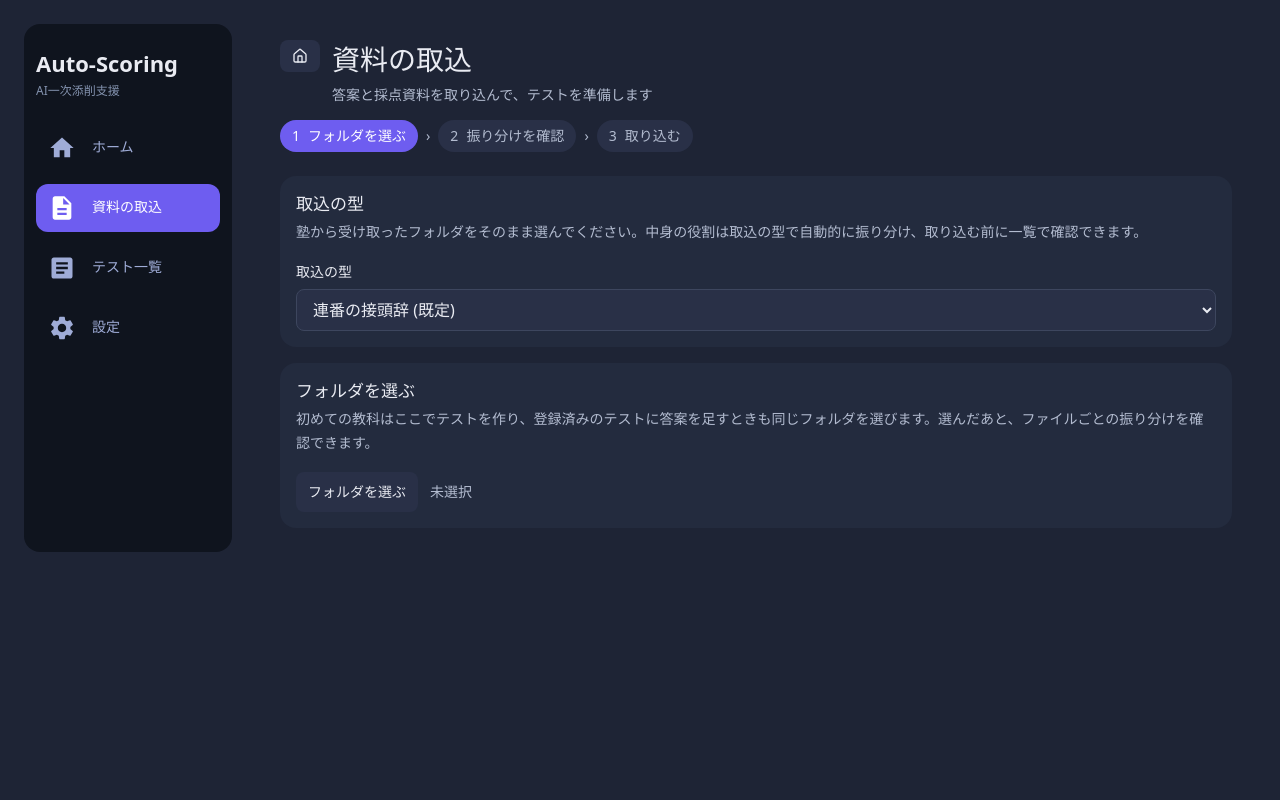
it: Issue #384 (1): folder-level bulk include/exclude › excluding a whole folder clears every file and the summary
Expected: the dropdown with test id "intake-template-picker" is shown, [296,289,1216,331]
Click the button with test id "intake-choose-folder": (357, 492) [296,472,418,512]
(page scrolled)
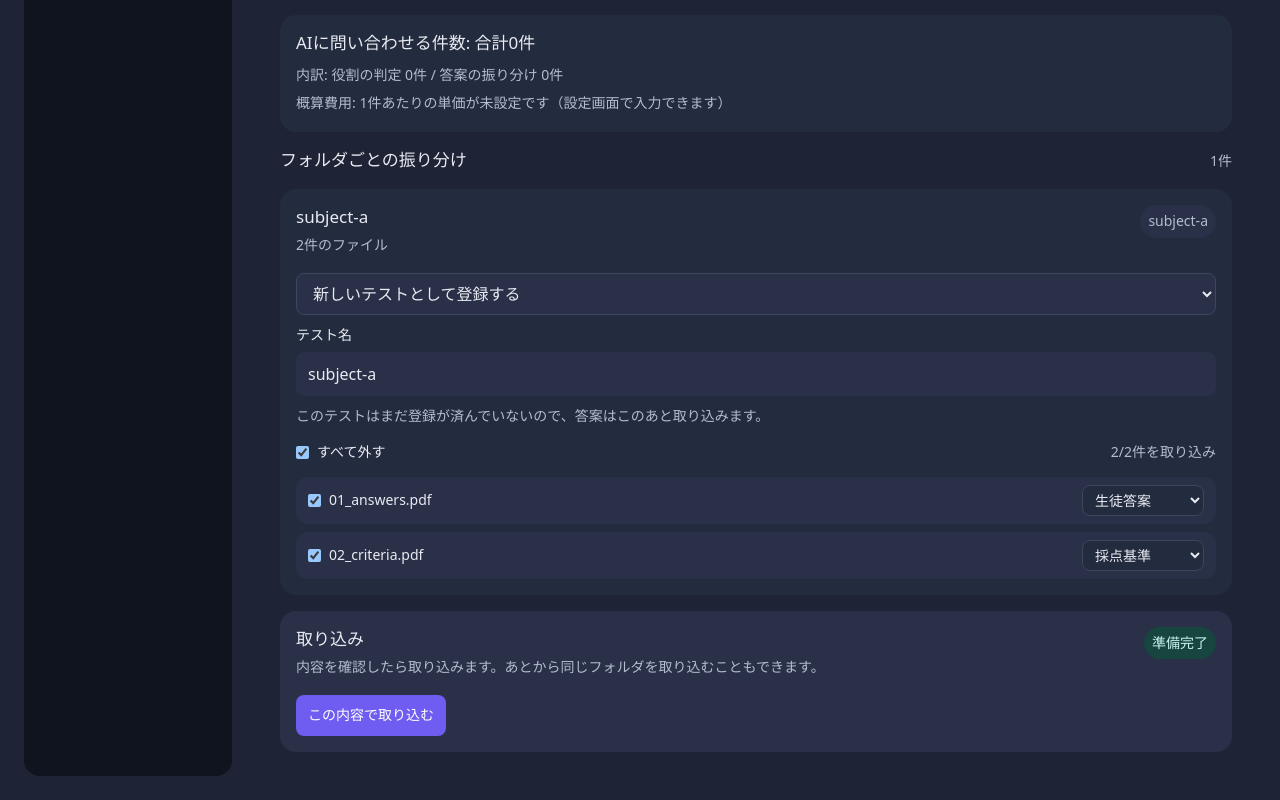
Click the checkbox with test id "intake-group-include-subject-a": (302, 453) [296,446,309,459]
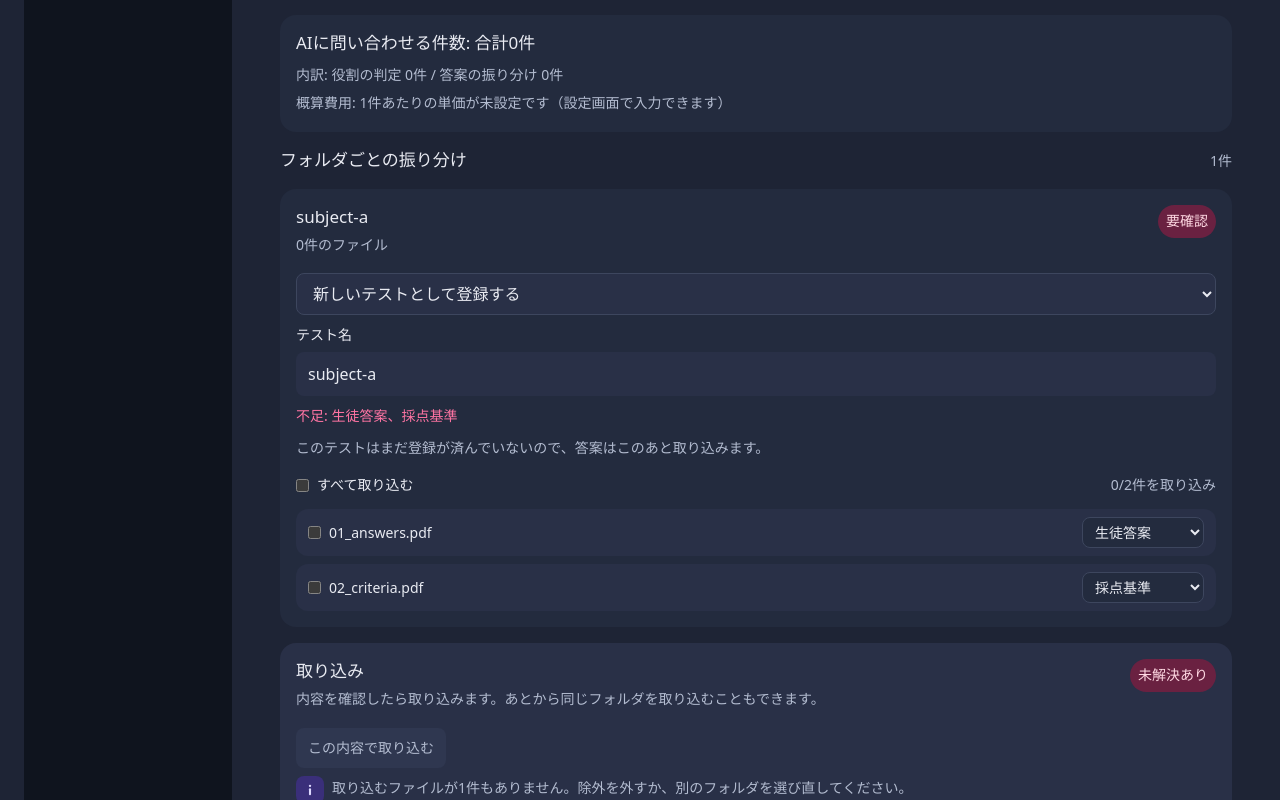
Expected: the checkbox with test id "intake-group-include-subject-a" is not checked, [296,479,309,492]
Expected: the checkbox with test id "intake-include-subject-a/01_answers.pdf" is not checked, [308,526,321,539]
Expected: the checkbox with test id "intake-include-subject-a/02_criteria.pdf" is not checked, [308,581,321,594]
